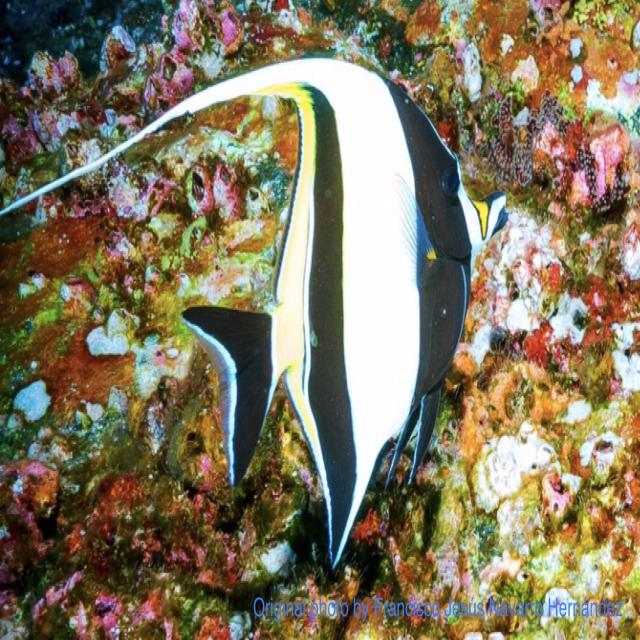MorishIdol: (182, 54, 510, 571)
